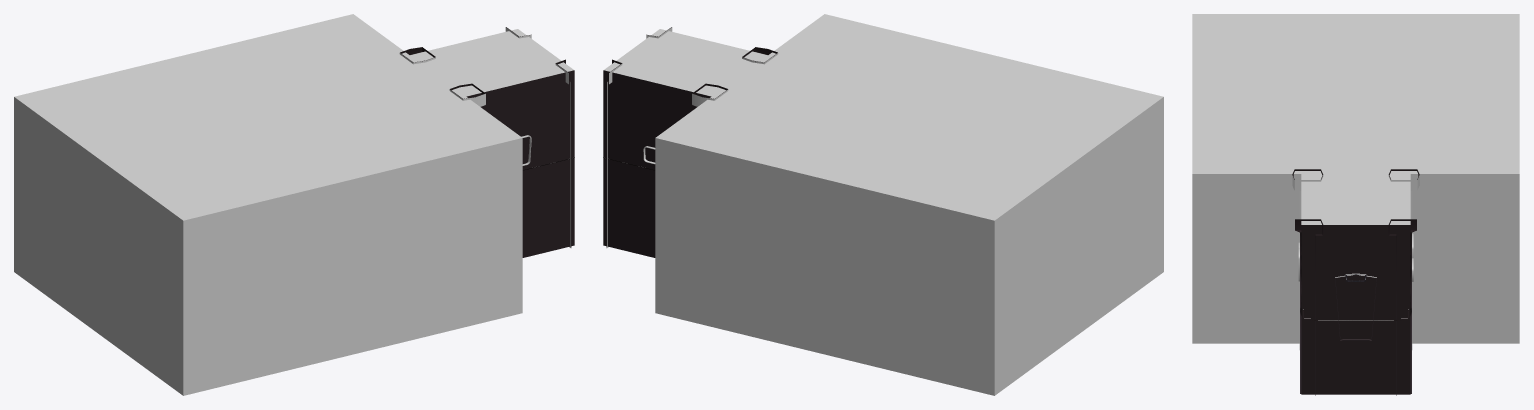
The model's file is guncerto_mainStage.fbx.
3 views of the same model, side by side, from view 1: azimuth 30°, elevation 25°; view 2: azimuth 150°, elevation 25°; view 3: azimuth 270°, elevation 25° (orthographic). The views are drawn at different scales.
Visible parts, largest first — view 1: baseEnvironment_mesh; view 2: baseEnvironment_mesh; view 3: baseEnvironment_mesh.
Part boxes in pixels (<box>): baseEnvironment_mesh: <box>14,14,574,395</box>; baseEnvironment_mesh: <box>603,14,1163,395</box>; baseEnvironment_mesh: <box>1192,14,1519,395</box>.
Size of the model in its own units: 25.05 by 9.48 by 16.32.
